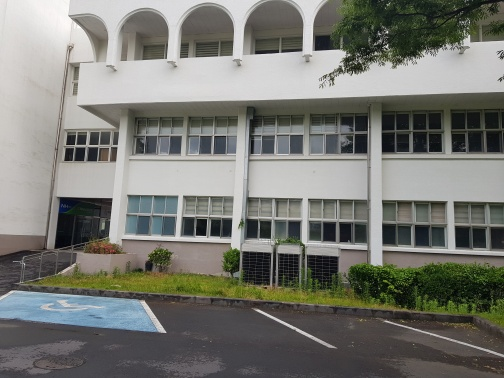Main Building of University: (5, 9, 504, 276), (115, 90, 372, 253), (106, 2, 308, 77)
